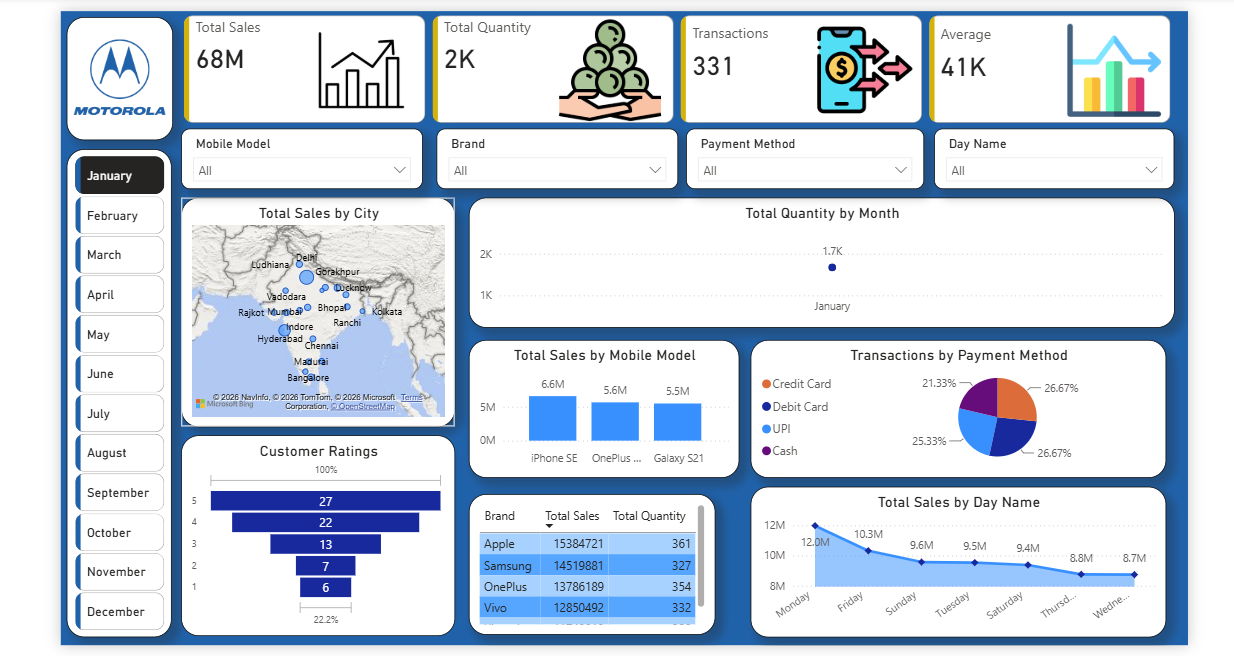

What the dashboard file says about the page in this screenshot:
{"tool":"powerbi","page":{"name":"Page 2","canvas":[1280,720],"ordinal":0},"visuals":[{"type":"shape","box":[6,7.2,120.6,139.9],"z":0},{"type":"shape","box":[6.9,156.4,119.4,554.4],"z":1000},{"type":"image","box":[9.6,16.5,113.9,116.6],"z":2000},{"type":"advancedSlicerVisual","fields":{"Values":["Sales_Data.Date.Variation.Date Hierarchy.Month"]},"box":[11,160.5,111.1,548.9],"z":3000},{"type":"cardVisual","fields":{"Data":["Sales_Data.Total Sales","Sales_Data.Total Quantity","Sales_Data.Transactions","Sales_Data.Average"]},"box":[135.1,0,1130.4,132.7],"z":4000},{"type":"map","fields":{"Category":["Sales_Data.City"],"Size":["Sales_Data.Total Sales"]},"box":[135.8,211.3,311.5,260.7],"z":5000},{"type":"lineChart","fields":{"Category":["Sales_Data.Date.Variation.Date Hierarchy.Month","Sales_Data.Date.Variation.Date Hierarchy.Day"],"Y":["Sales_Data.Total Quantity"]},"box":[463.8,211.3,801.4,148.2],"z":6000},{"type":"clusteredColumnChart","fields":{"Category":["Sales_Data.Mobile Model"],"Y":["Sales_Data.Total Sales"]},"box":[463.8,373.2,307.4,156.4],"z":7000},{"type":"pieChart","fields":{"Category":["Sales_Data.Payment Method"],"Y":["Sales_Data.Transactions"]},"box":[783.5,373.2,472,156.4],"z":8000},{"type":"funnel","title":"Customer Ratings","fields":{"Category":["Sales_Data.Customer Ratings"],"Y":["CountNonNull(Sales_Data.Customer Ratings)"]},"box":[135.8,481.6,311.5,227.8],"z":9000},{"type":"areaChart","fields":{"Category":["Sales_Data.Day Name"],"Y":["Sales_Data.Total Sales"]},"box":[783.5,539.3,472,171.5],"z":10000},{"type":"tableEx","fields":{"Values":["Sales_Data.Brand","Sales_Data.Total Sales","Sales_Data.Total Quantity"]},"box":[463.3,548.9,279.9,171.3],"z":11000},{"type":"slicer","fields":{"Values":["Sales_Data.Mobile Model"]},"box":[135.8,133.1,274.4,68.6],"z":12000},{"type":"slicer","fields":{"Values":["Sales_Data.Brand"]},"box":[426.8,133.1,274.4,68.6],"z":13000},{"type":"slicer","fields":{"Values":["Sales_Data.Payment Method"]},"box":[710.8,133.1,270.3,68.6],"z":14000},{"type":"slicer","fields":{"Values":["Sales_Data.Day Name"]},"box":[992.1,133.1,273.1,68.6],"z":15000}]}

Visuals, with their boxes in screenshot pixels (x1, y1, x2, y2):
shape: box=[60, 10, 168, 135]
shape: box=[61, 144, 168, 641]
image: box=[63, 18, 166, 123]
advancedSlicerVisual - Sales_Data.Date.Variation.Date Hierarchy.Month: box=[65, 147, 164, 640]
cardVisual - Sales_Data.Total Sales x Sales_Data.Total Quantity: box=[176, 3, 1191, 122]
map - Sales_Data.City x Sales_Data.Total Sales: box=[177, 193, 456, 427]
lineChart - Sales_Data.Date.Variation.Date Hierarchy.Month x Sales_Data.Date.Variation.Date Hierarchy.Day: box=[471, 193, 1191, 326]
clusteredColumnChart - Sales_Data.Mobile Model x Sales_Data.Total Sales: box=[471, 338, 747, 479]
pieChart - Sales_Data.Payment Method x Sales_Data.Transactions: box=[758, 338, 1182, 479]
"Customer Ratings" funnel: box=[177, 436, 456, 640]
areaChart - Sales_Data.Day Name x Sales_Data.Total Sales: box=[758, 487, 1182, 641]
tableEx - Sales_Data.Brand x Sales_Data.Total Sales: box=[471, 496, 722, 650]
slicer - Sales_Data.Mobile Model: box=[177, 123, 423, 184]
slicer - Sales_Data.Brand: box=[438, 123, 684, 184]
slicer - Sales_Data.Payment Method: box=[693, 123, 936, 184]
slicer - Sales_Data.Day Name: box=[945, 123, 1191, 184]
